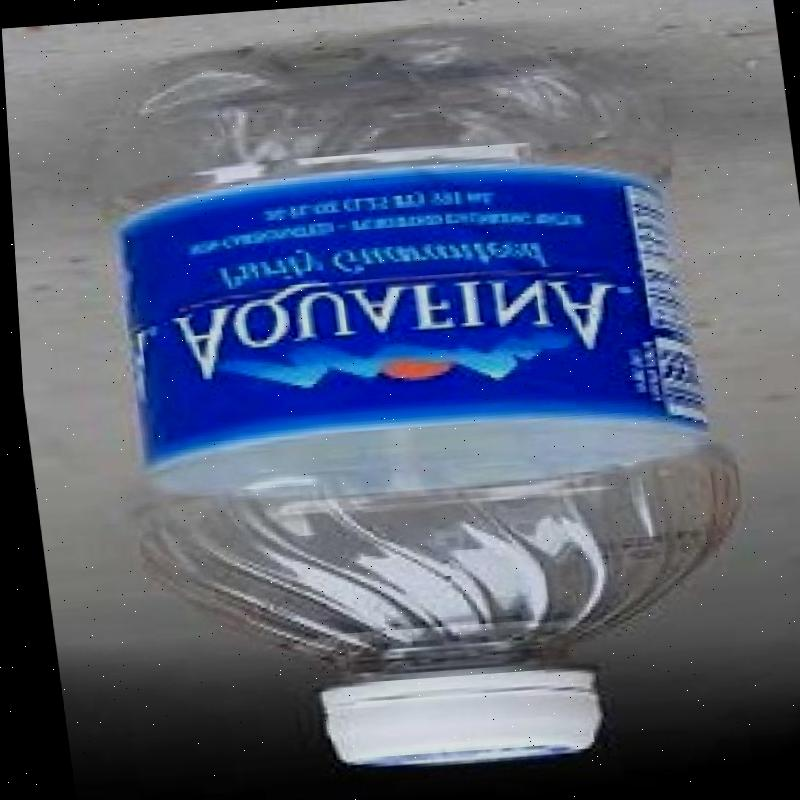botella: (69, 14, 770, 786)
